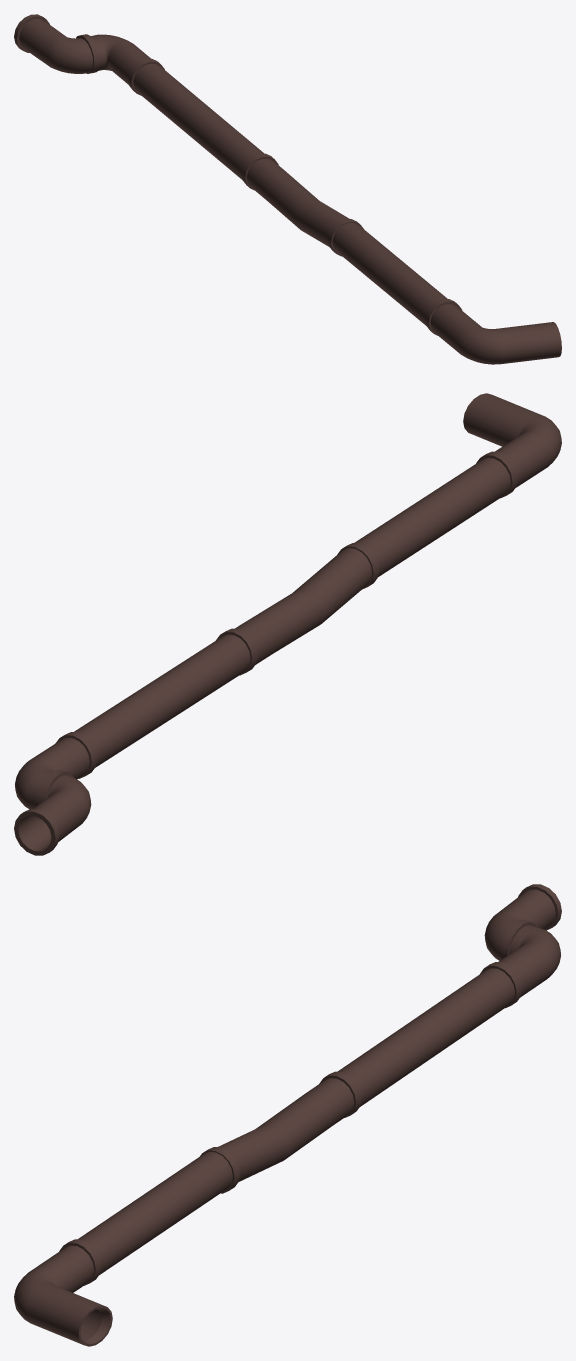
The model's file is metalpipe.glb.
The picture shows the model from 3 angles, top to bottom: view 1: azimuth 30°, elevation 25°; view 2: azimuth 150°, elevation 25°; view 3: azimuth 330°, elevation 25°; orthographic projection. The views are drawn at different scales.
Visible parts, largest first — view 1: pCylinder53_rust_metal_0.002; view 2: pCylinder53_rust_metal_0.002; view 3: pCylinder53_rust_metal_0.002.
Boxes of the visible parts, x1=… form: pCylinder53_rust_metal_0.002: x1=14, y1=14, x2=561, y2=364; pCylinder53_rust_metal_0.002: x1=14, y1=393, x2=561, y2=855; pCylinder53_rust_metal_0.002: x1=14, y1=884, x2=561, y2=1346.
Bounding box in the file's own units: 2.04 × 0.78 × 16.04.
